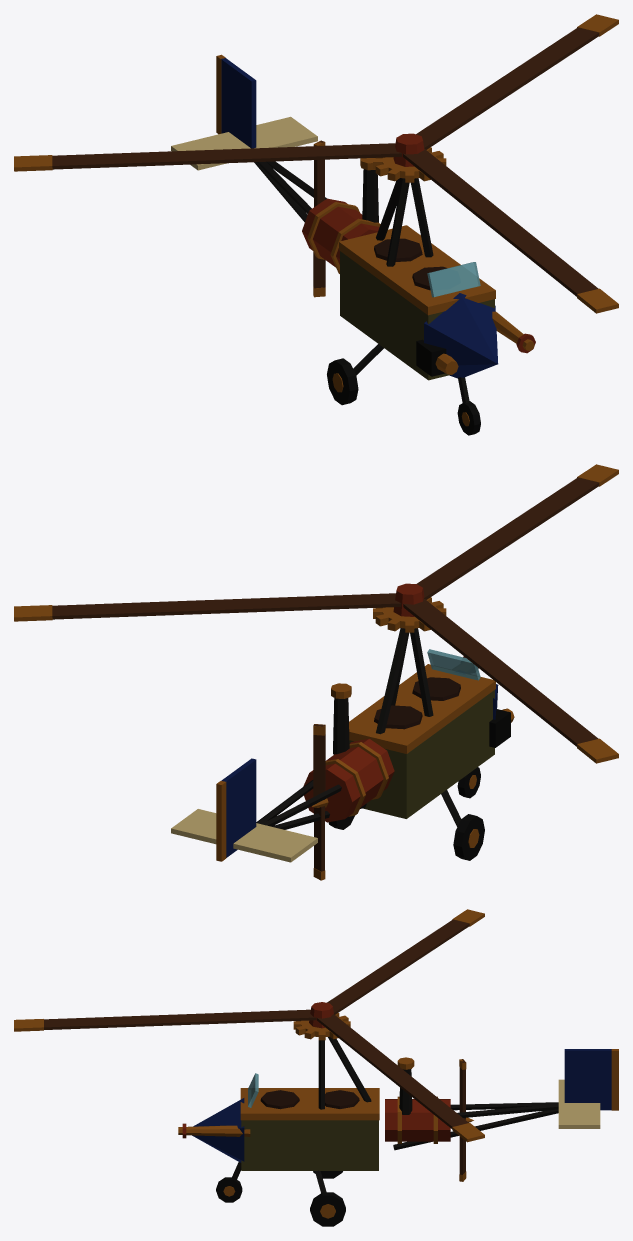
File: Libelula.obj
3 views of the same model, one above another, from view 1: azimuth 30°, elevation 25°; view 2: azimuth 150°, elevation 25°; view 3: azimuth 270°, elevation 25° (orthographic). The views are drawn at different scales.
Visible parts, largest first — view 1: Cuerpo, Rotor, Helice_1; view 2: Cuerpo, Rotor, Helice_1; view 3: Cuerpo, Rotor, Helice_1.
Part boxes in pixels (x1,y1,x2,y2): Cuerpo: (171, 54, 535, 435); Rotor: (14, 14, 618, 313); Helice_1: (313, 140, 325, 297); Cuerpo: (171, 597, 514, 862); Rotor: (14, 464, 618, 763); Helice_1: (312, 724, 328, 880); Cuerpo: (178, 1013, 618, 1226); Rotor: (14, 909, 484, 1142); Helice_1: (459, 1059, 473, 1181).
Bounding box in the file's own units: 9.09 × 3.59 × 10.11.
